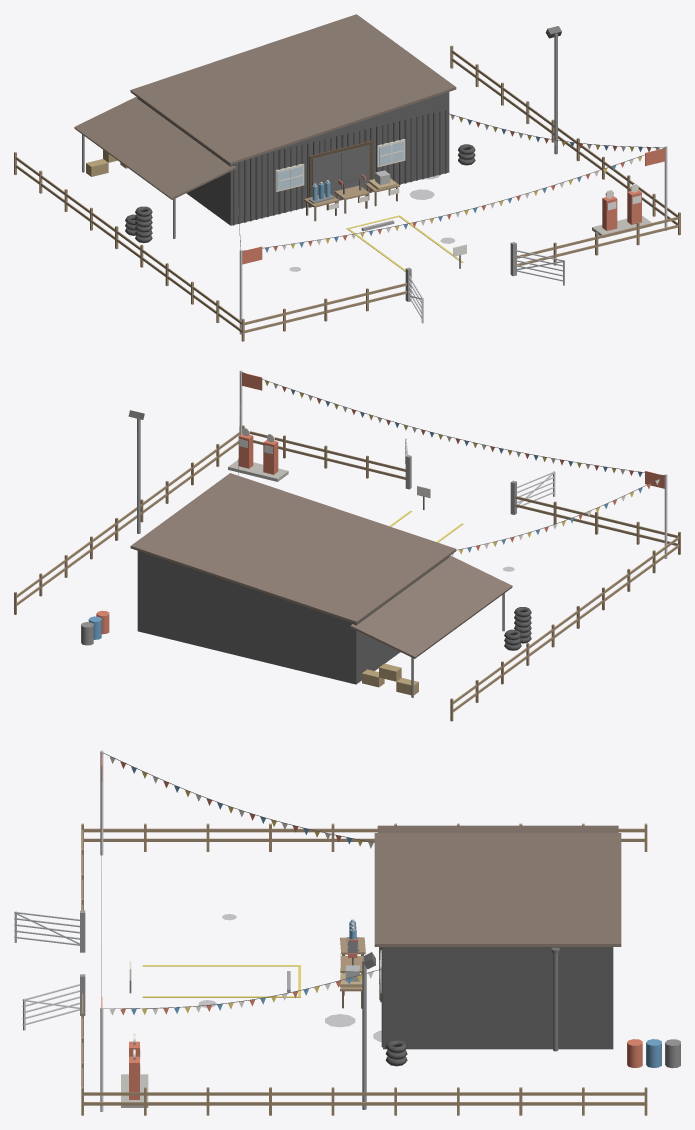
Rendered from tor_du_specials.glb.
The picture shows the model from 3 angles, top to bottom: view 1: azimuth 30°, elevation 25°; view 2: azimuth 150°, elevation 25°; view 3: azimuth 270°, elevation 25°; orthographic projection. The views are drawn at different scales.
Bounding box in the file's own units: 22.94 × 6.22 × 24.44.
